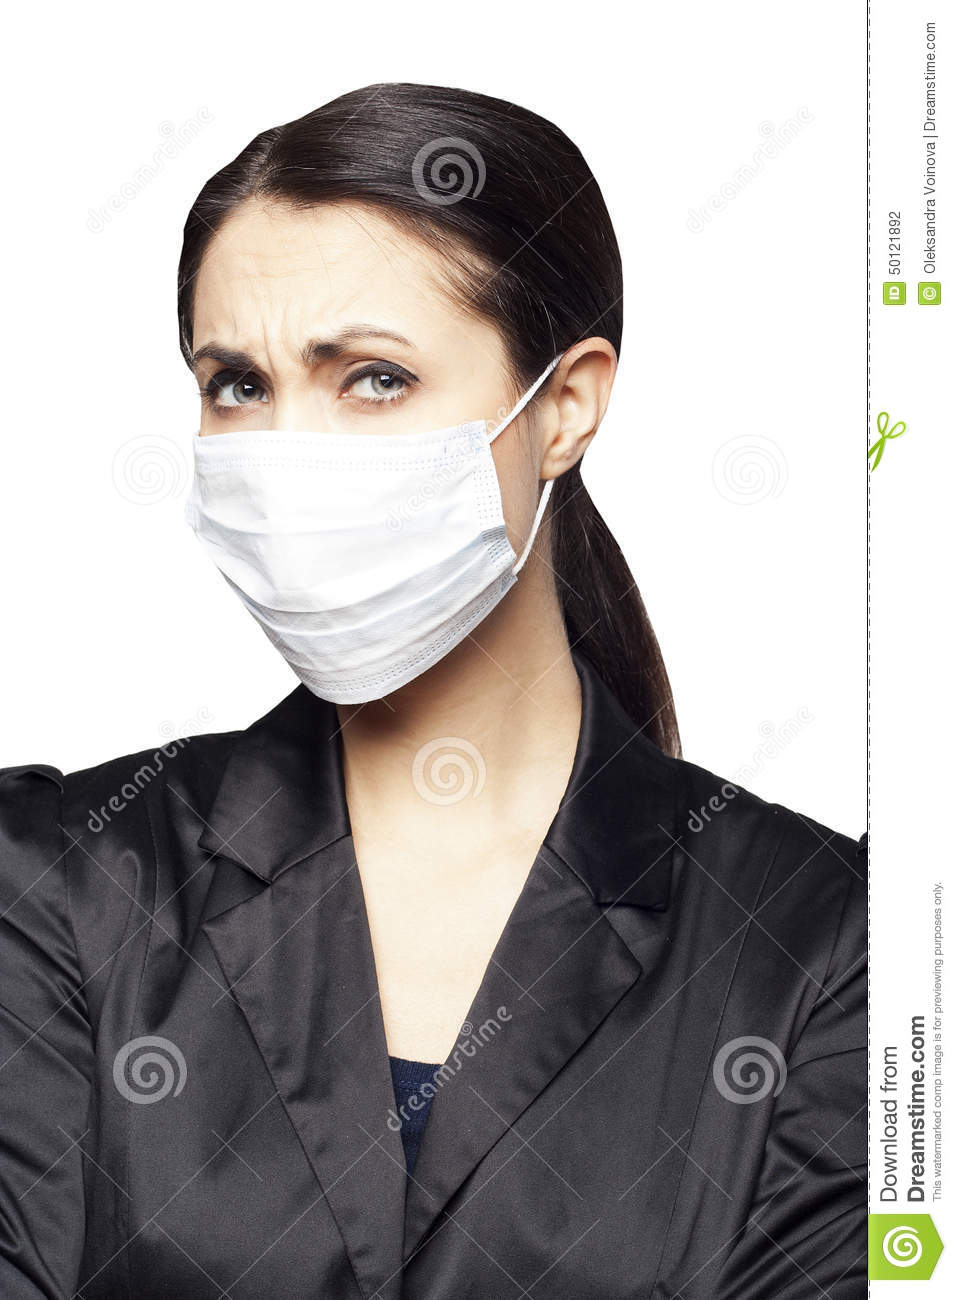mask: (190, 435, 516, 711)
